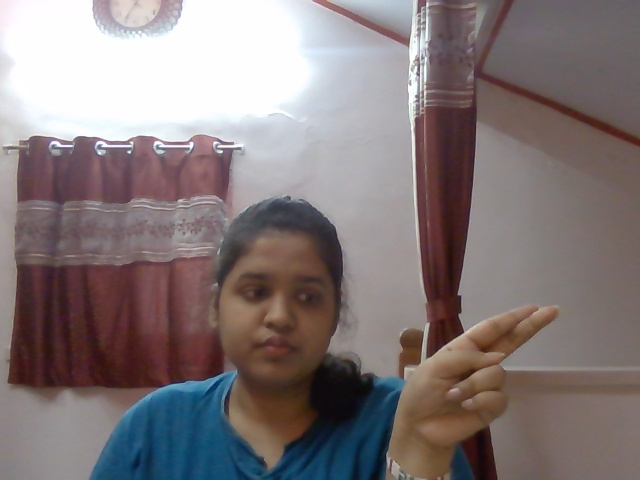h: (394, 298, 570, 435)
